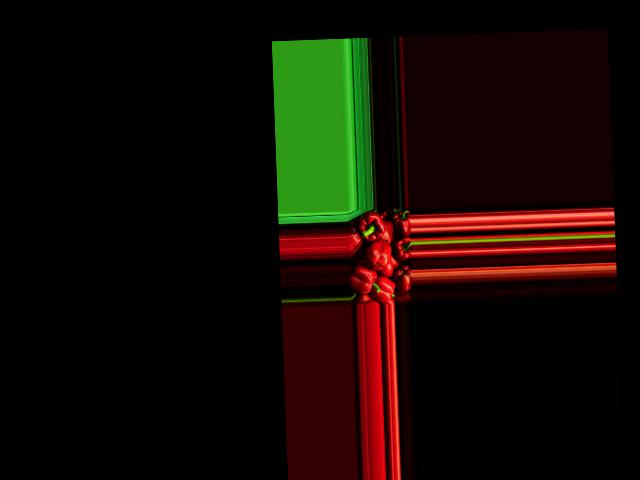bell_pepper: (391, 209, 410, 235)
